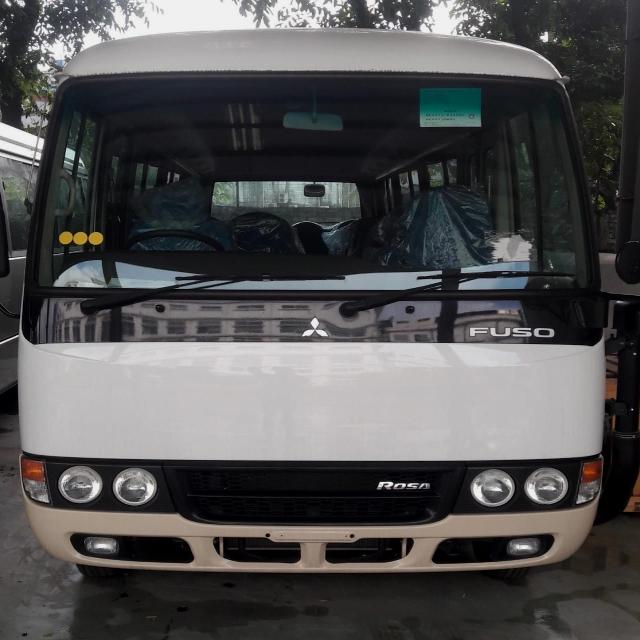bus: (1, 21, 640, 640)
